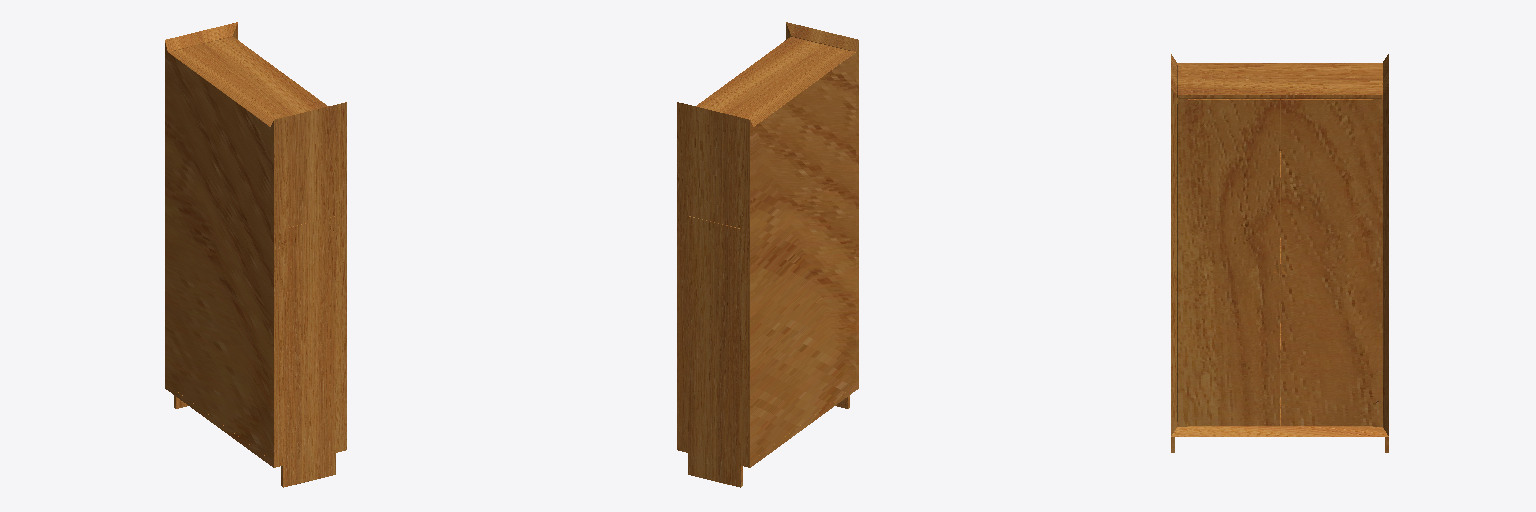
The picture shows the model from 3 angles: view 1: azimuth 30°, elevation 25°; view 2: azimuth 150°, elevation 25°; view 3: azimuth 270°, elevation 25°; orthographic projection.
Parts seen in each view (by area): view 1: (null); view 2: (null); view 3: (null).
Part boxes in pixels (x1,y1,x2,y2): (null): (165,22,346,487); (null): (677,22,858,487); (null): (1171,54,1388,452).
Size of the model in its own units: 0.4009 by 1.93 by 1.03.
3 materials, 1 textured.